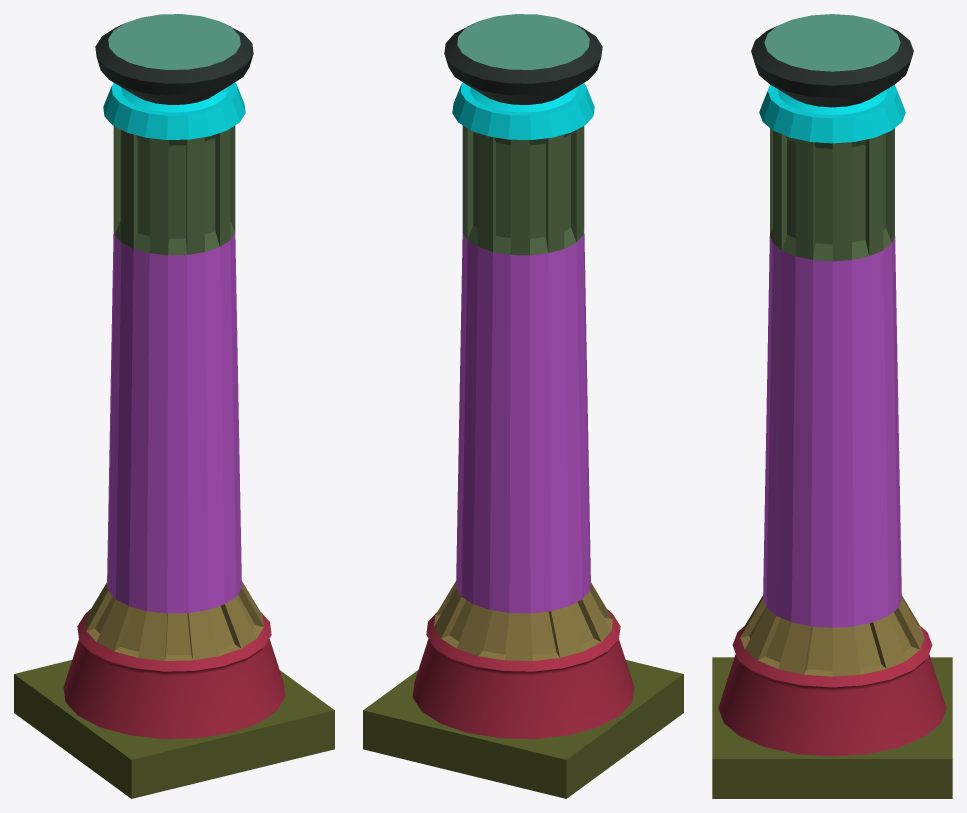
Rendered from PilarFBX.fbx.
The picture shows the model from 3 angles, left to right: view 1: azimuth 30°, elevation 25°; view 2: azimuth 150°, elevation 25°; view 3: azimuth 270°, elevation 25°; orthographic projection. The views are drawn at different scales.
Visible parts, largest first — view 1: pCube2; view 2: pCube2; view 3: pCube2.
Boxes of the visible parts, box(x1,y1,x2,y2) form: pCube2: box(14, 14, 334, 798); pCube2: box(363, 14, 683, 798); pCube2: box(712, 14, 952, 798).
Bounding box in the file's own units: 1.22 × 3.96 × 1.22.
